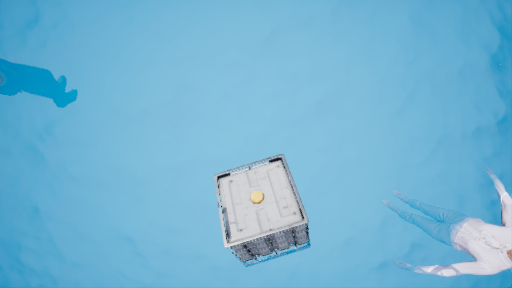person: (386, 170, 512, 275)
